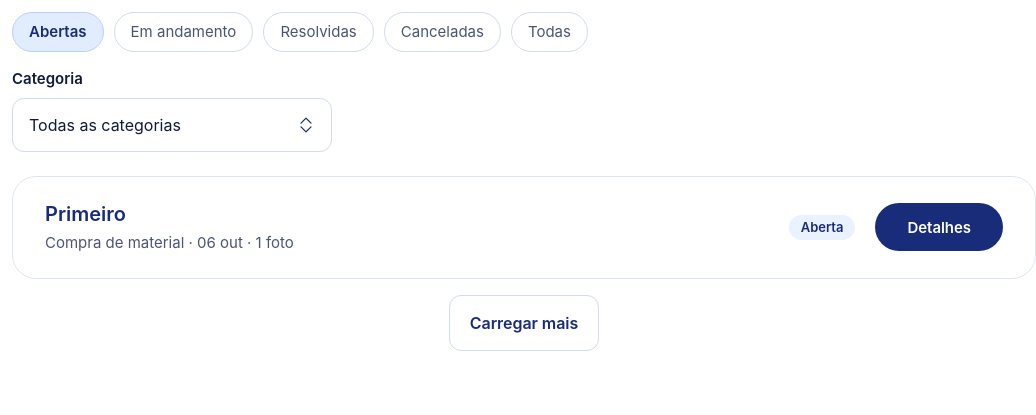
Test case: Caixa de entrada da gestao › carregar mais acrescenta a proxima pagina; erro da pagina nao apaga o que ja esta na tela
Expected: the text "Primeiro" is shown, [45,202,126,226]
Click the button "Carregar mais".
click(524, 323)  # box [449,295,599,351]
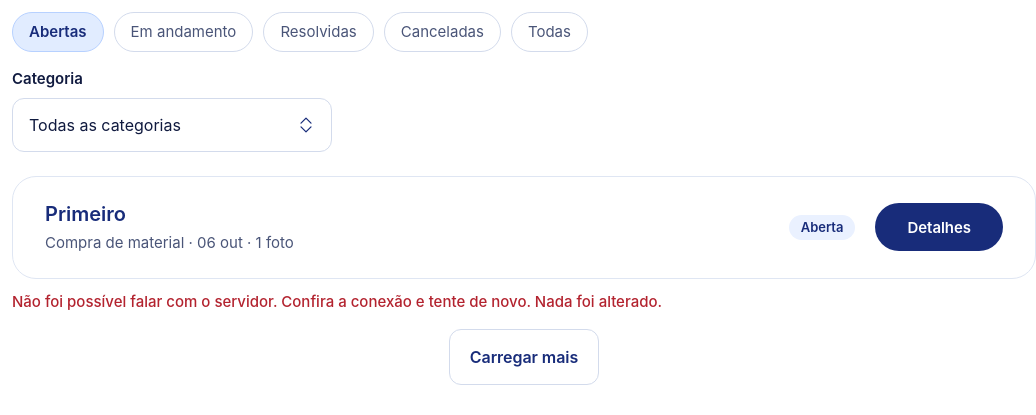
Expected: the text "Primeiro" is shown, [45,202,126,226]
Now the text "Nada foi alterado" is shown, box [12,292,662,311]
Click the button "Carregar mais".
click(524, 357)  # box [449,329,599,385]
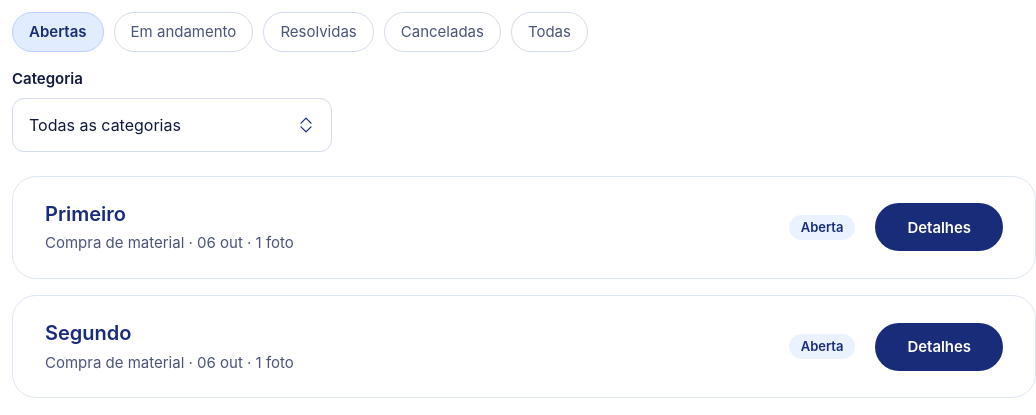
Now the text "Segundo" is shown, box [45,321,132,345]
Now the button "Carregar mais" is gone
